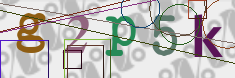2: (61, 13, 93, 56)
5: (147, 9, 183, 60)
g: (11, 7, 52, 56)
k: (189, 9, 225, 64)
p: (102, 10, 138, 60)
